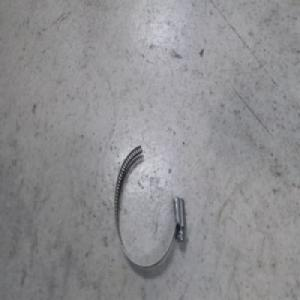AdjustableClamp: (112, 141, 184, 267)
